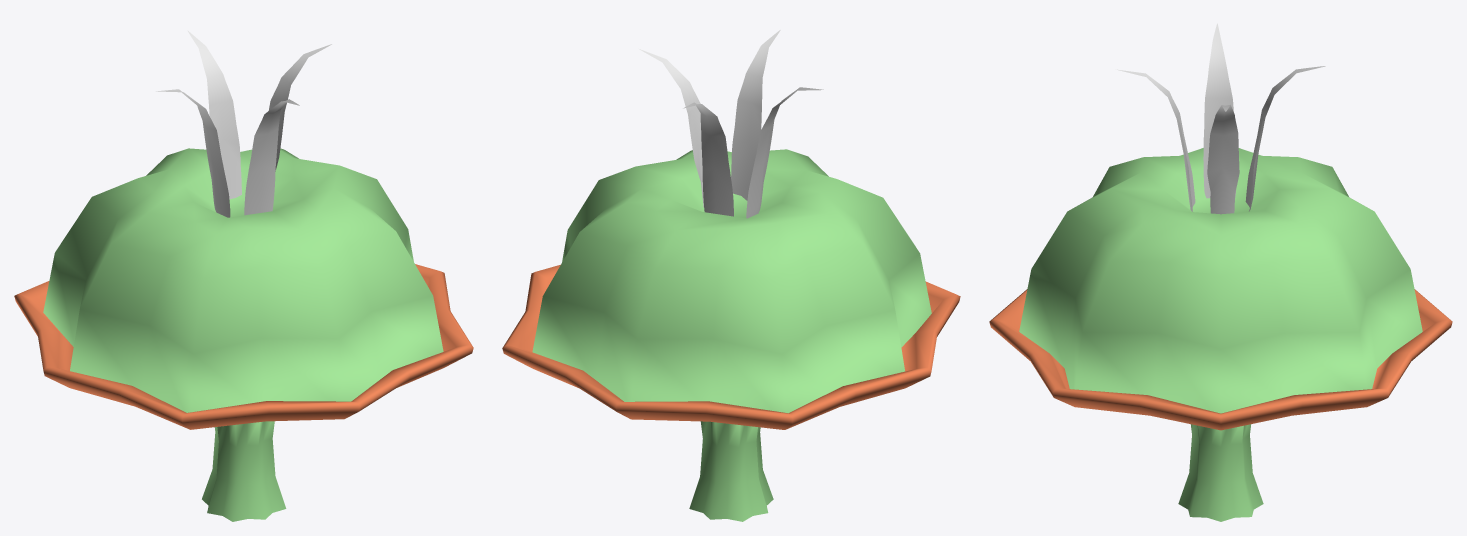
Rendered from PuddingCactus.fbx.
The picture shows the model from 3 angles, left to right: view 1: azimuth 30°, elevation 25°; view 2: azimuth 150°, elevation 25°; view 3: azimuth 270°, elevation 25°; orthographic projection.
Parts seen in each view (by area): view 1: PuddingCactus_Item_LOD0, PuddingCactus_Base_LOD0; view 2: PuddingCactus_Item_LOD0, PuddingCactus_Base_LOD0; view 3: PuddingCactus_Item_LOD0, PuddingCactus_Base_LOD0.
Part boxes in pixels (x1,y1,x2,y2): PuddingCactus_Item_LOD0: (14,30,473,429); PuddingCactus_Base_LOD0: (202,421,286,521); PuddingCactus_Item_LOD0: (502,30,960,429); PuddingCactus_Base_LOD0: (689,421,773,521); PuddingCactus_Item_LOD0: (989,23,1452,430); PuddingCactus_Base_LOD0: (1178,424,1263,521).
Size of what is drawn, in the model's own units: 0.4781 by 0.5054 by 0.4781.
